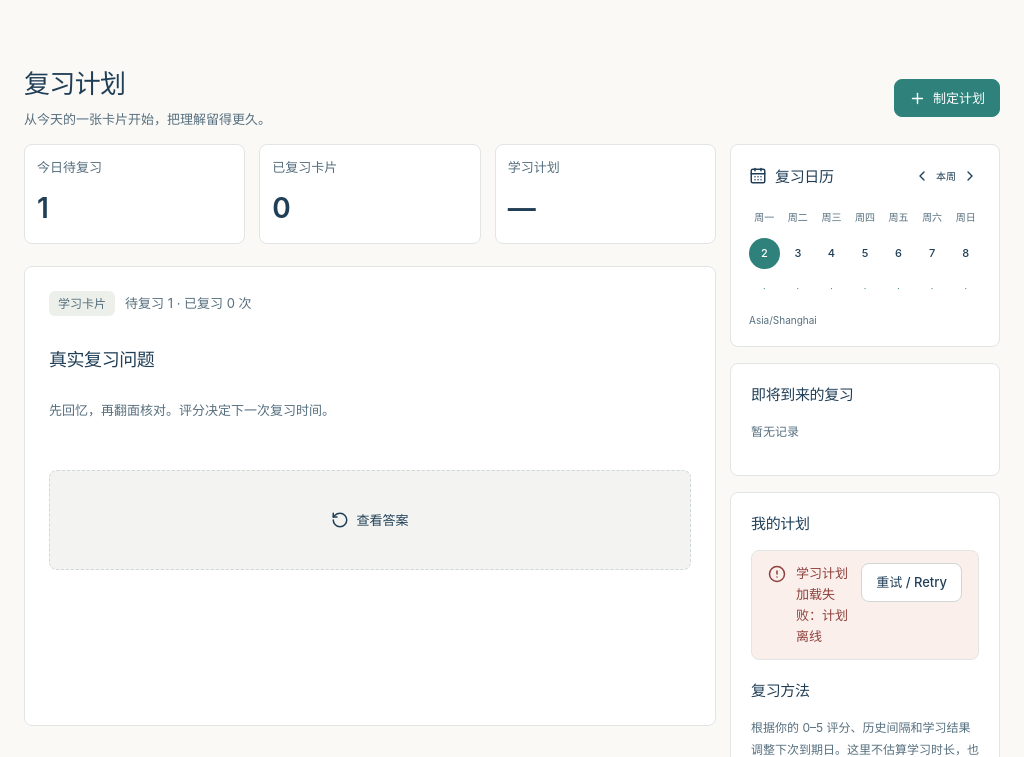
plan retry does not change a flipped card or fetch cards again
Click the button "查看答案" at (370,520), box [49,470,691,570]
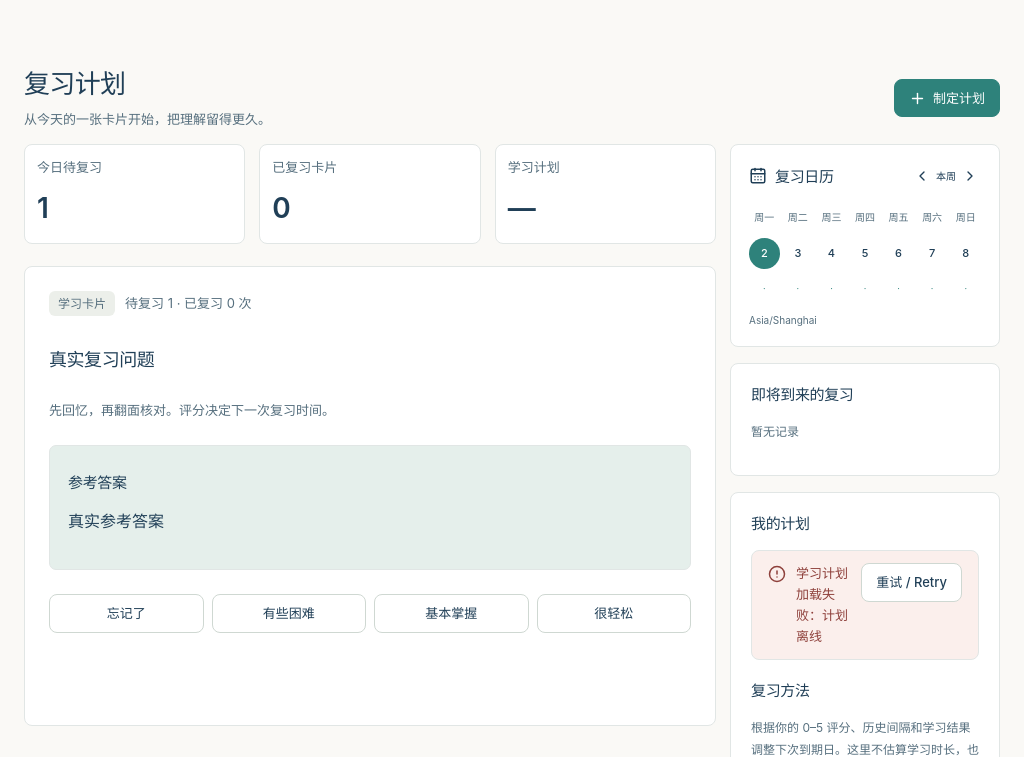
Expected: the text "学习计划加载失败：计划离线" is shown, [796,563,851,647]
Click the button "重试 / Retry" at (912,583), box [861,563,962,602]
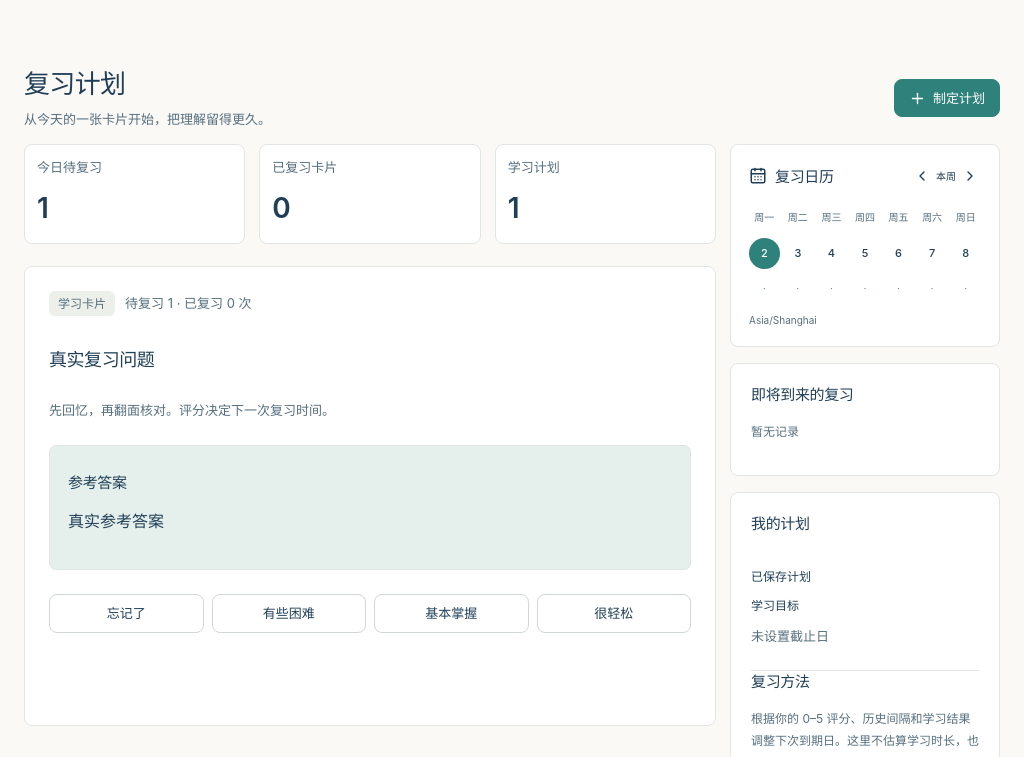
Now the text "真实参考答案" is shown, box [68,511,164,531]
Now the text "已保存计划" is shown, box [751,569,811,584]
